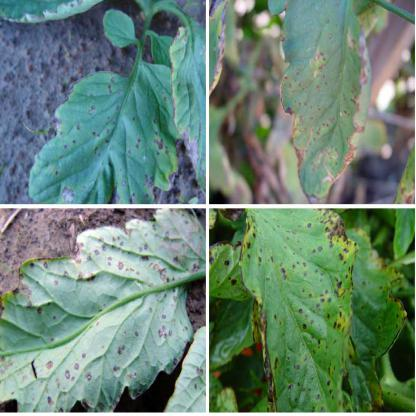tomato leaf bacterial spot: (2, 213, 196, 409), (230, 207, 358, 406), (30, 29, 174, 201), (269, 8, 369, 203)
